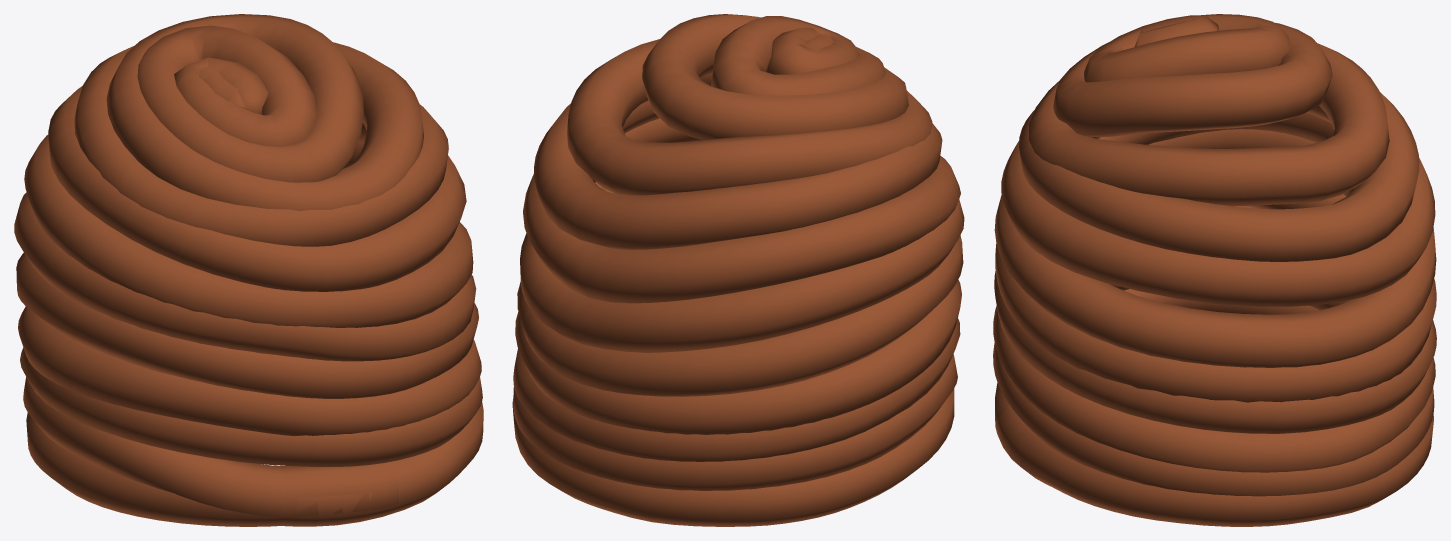
3 views of the same model, side by side, from view 1: azimuth 30°, elevation 25°; view 2: azimuth 150°, elevation 25°; view 3: azimuth 270°, elevation 25° (orthographic). The views are drawn at different scales.
Visible parts, largest first — view 1: brush_Icing_g0_b0; view 2: brush_Icing_g0_b0; view 3: brush_Icing_g0_b0.
Part boxes in pixels (left/top/right/bottom): brush_Icing_g0_b0: left=14, top=14, right=483, bottom=526; brush_Icing_g0_b0: left=512, top=14, right=964, bottom=526; brush_Icing_g0_b0: left=993, top=14, right=1436, bottom=526.
Bounding box in the file's own units: 2.34 × 2.36 × 2.3.
